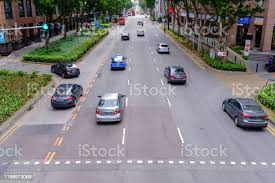car: (223, 97, 268, 128), (95, 91, 126, 126), (50, 82, 85, 112), (50, 60, 82, 80), (163, 65, 186, 84), (110, 55, 128, 72), (156, 43, 169, 55)
